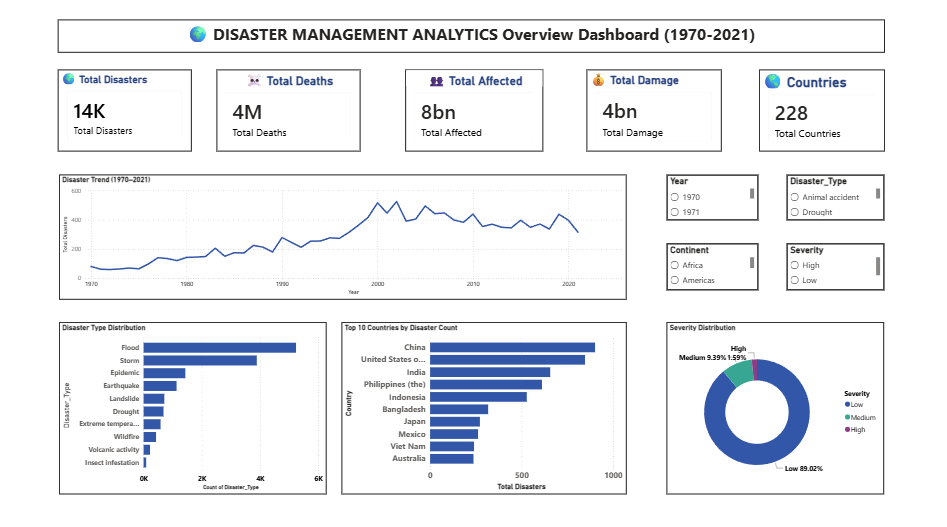

The page's visual inventory and layout, read from the dashboard file:
{"tool":"powerbi","page":{"name":"Overview Dashboard","canvas":[1920,1080],"ordinal":0},"visuals":[{"type":"cardVisual","title":"🌍 Total Disasters","fields":{"Data":["disaster_cleaned.Total Disasters"]},"box":[128,144,268,164],"z":0},{"type":"cardVisual","title":"☠️ Total Deaths","fields":{"Data":["disaster_cleaned.Total Deaths"]},"box":[446,144,288,164],"z":1000},{"type":"cardVisual","title":"👥 Total Affected","fields":{"Data":["Sum(disaster_cleaned.Total_Affected)"]},"box":[822,144,276,164],"z":2000},{"type":"cardVisual","title":"💰 Total Damage","fields":{"Data":["disaster_cleaned.Total Damage"]},"box":[1186,144,270,164],"z":3000},{"type":"cardVisual","title":"🌎 Countries","fields":{"Data":["disaster_cleaned.Total Countries"]},"box":[1530,144,252,164],"z":4000},{"type":"lineChart","title":"Disaster Trend (1970–2021)","fields":{"Category":["disaster_cleaned.Year"],"Y":["disaster_cleaned.Total Disasters"]},"box":[130,355,1135,250],"z":5000},{"type":"clusteredBarChart","title":"Disaster Type Distribution","fields":{"Category":["disaster_cleaned.Disaster_Type"],"Y":["CountNonNull(disaster_cleaned.Disaster_Type)"]},"box":[130,650,535,345],"z":6000},{"type":"clusteredBarChart","title":"Top 10 Countries by Disaster Count","fields":{"Category":["disaster_cleaned.Country"],"Y":["disaster_cleaned.Total Disasters"]},"box":[695,650,570,345],"z":7000},{"type":"donutChart","title":"Severity Distribution","fields":{"Category":["disaster_cleaned.Severity"],"Y":["CountNonNull(disaster_cleaned.Severity)"]},"box":[1345,650,435,345],"z":8000},{"type":"textbox","box":[128,46,1654,66],"z":9000},{"type":"listSlicer","fields":{"Values":["disaster_cleaned.Year"]},"box":[1346,356,184,92],"z":10000},{"type":"listSlicer","fields":{"Values":["disaster_cleaned.Continent"]},"box":[1346,492,184,94],"z":11000},{"type":"listSlicer","fields":{"Values":["disaster_cleaned.Disaster_Type"]},"box":[1586,356,196,92],"z":12000},{"type":"listSlicer","fields":{"Values":["disaster_cleaned.Severity"]},"box":[1586,492,196,94],"z":13000}]}

Visuals, with their boxes in screenshot pixels (x1, y1, x2, y2), scaled from the page's 1920x1080 canvas onto the 947x527 screenshot:
"🌍 Total Disasters" cardVisual: rect(63, 70, 195, 150)
"☠️ Total Deaths" cardVisual: rect(220, 70, 362, 150)
"👥 Total Affected" cardVisual: rect(405, 70, 542, 150)
"💰 Total Damage" cardVisual: rect(585, 70, 718, 150)
"🌎 Countries" cardVisual: rect(755, 70, 879, 150)
"Disaster Trend (1970–2021)" lineChart: rect(64, 173, 624, 295)
"Disaster Type Distribution" clusteredBarChart: rect(64, 317, 328, 486)
"Top 10 Countries by Disaster Count" clusteredBarChart: rect(343, 317, 624, 486)
"Severity Distribution" donutChart: rect(663, 317, 878, 486)
textbox: rect(63, 22, 879, 55)
listSlicer - disaster_cleaned.Year: rect(664, 174, 755, 219)
listSlicer - disaster_cleaned.Continent: rect(664, 240, 755, 286)
listSlicer - disaster_cleaned.Disaster_Type: rect(782, 174, 879, 219)
listSlicer - disaster_cleaned.Severity: rect(782, 240, 879, 286)
